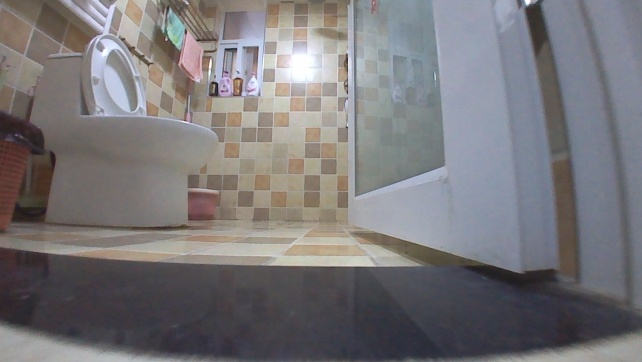door: (340, 0, 641, 312)
toilet: (73, 30, 220, 232)
